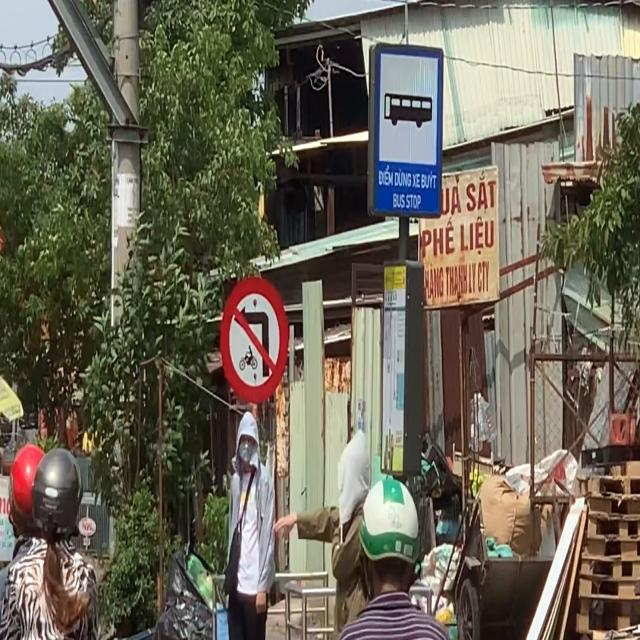Hieu lenh: (373, 44, 443, 218)
